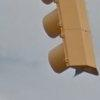traffic lights: (39, 0, 100, 77)
